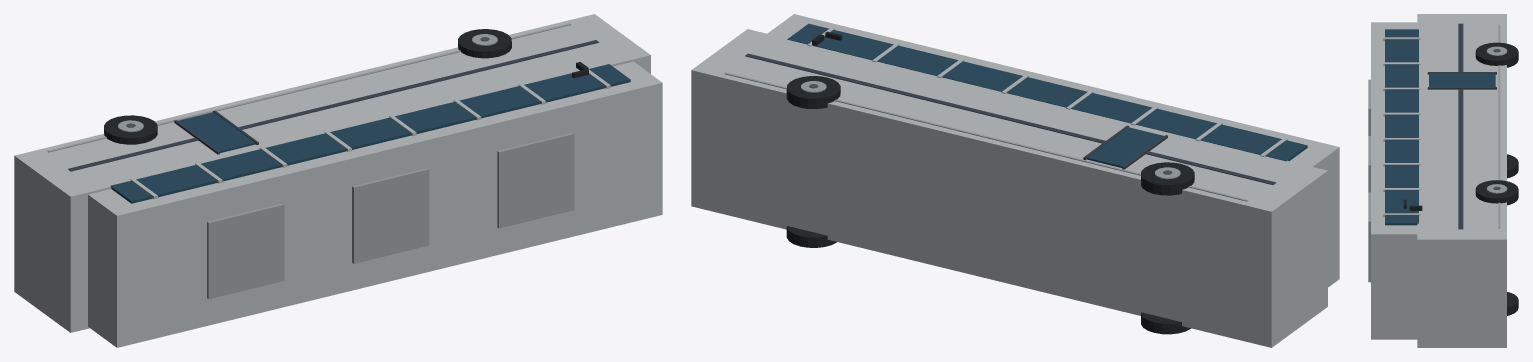
File: RM_Bus_18.glb
The picture shows the model from 3 angles, left to right: view 1: azimuth 30°, elevation 25°; view 2: azimuth 150°, elevation 25°; view 3: azimuth 270°, elevation 25°; orthographic projection. The views are drawn at different scales.
Parts seen in each view (by area): view 1: part_001, part_000, part_002, part_037, part_038, part_039, part_013, part_040, part_014, part_030, part_024; view 2: part_000, part_002, part_001, part_013, part_040, part_030, part_024, part_014, part_027, part_021; view 3: part_000, part_001, part_002, part_013, part_040, part_030, part_024, part_014, part_039, part_021, part_027, part_042 (+5 smaller).
Boxes of the visible parts, left/top/right/bottom form: part_001: left=88, top=61, right=662, bottom=347; part_000: left=14, top=14, right=650, bottom=332; part_002: left=110, top=64, right=630, bottom=203; part_037: left=207, top=203, right=284, bottom=299; part_038: left=352, top=168, right=429, bottom=263; part_039: left=497, top=132, right=574, bottom=228; part_013: left=68, top=40, right=599, bottom=171; part_040: left=178, top=112, right=255, bottom=152; part_014: left=47, top=23, right=571, bottom=152; part_030: left=458, top=29, right=511, bottom=58; part_024: left=104, top=115, right=157, bottom=144; part_000: left=691, top=29, right=1327, bottom=347; part_002: left=787, top=23, right=1307, bottom=161; part_001: left=767, top=14, right=1339, bottom=287; part_013: left=745, top=53, right=1276, bottom=184; part_040: left=1087, top=127, right=1163, bottom=167; part_030: left=786, top=76, right=840, bottom=109; part_024: left=1141, top=162, right=1194, bottom=195; part_014: left=724, top=72, right=1248, bottom=201; part_027: left=786, top=226, right=836, bottom=247; part_021: left=1141, top=312, right=1190, bottom=334; part_000: left=1417, top=14, right=1506, bottom=347; part_001: left=1371, top=22, right=1417, bottom=339; part_002: left=1385, top=29, right=1418, bottom=225; part_013: left=1458, top=23, right=1463, bottom=229; part_040: left=1429, top=73, right=1495, bottom=86; part_030: left=1475, top=180, right=1518, bottom=205; part_024: left=1475, top=42, right=1518, bottom=67; part_014: left=1498, top=24, right=1500, bottom=228; part_039: left=1368, top=192, right=1370, bottom=282; part_021: left=1507, top=154, right=1518, bottom=178; part_027: left=1507, top=292, right=1518, bottom=315; part_042: left=1427, top=87, right=1496, bottom=89.
Bounding box in the file's own units: 11.64 × 2.93 × 3.28.
